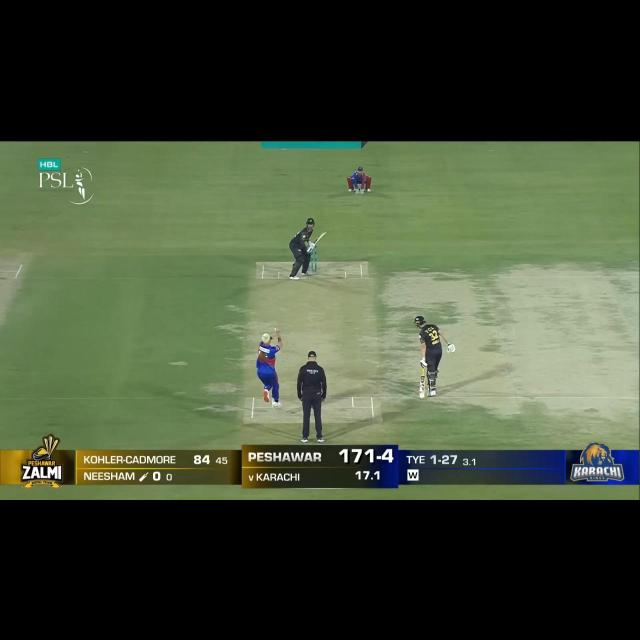bat: (313, 232, 326, 246), (419, 375, 426, 399)
toe: (418, 394, 424, 400), (321, 231, 326, 237)
